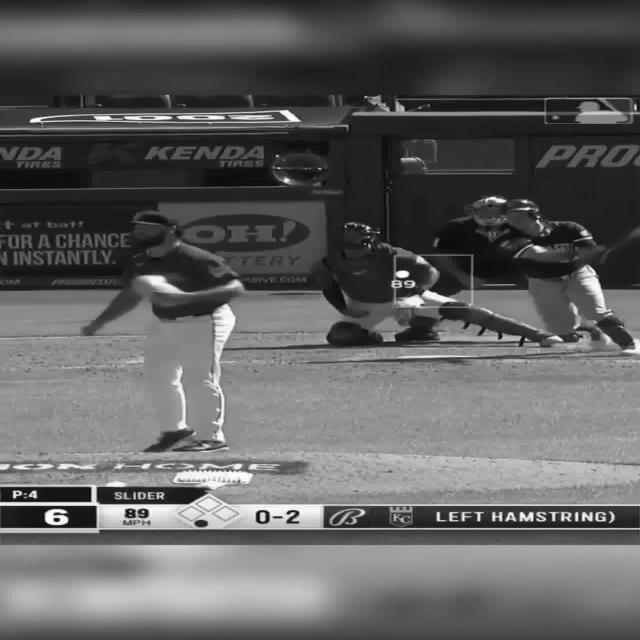baseball_glove: (138, 278, 182, 302)
shoe: (326, 322, 382, 346), (142, 428, 195, 452), (596, 318, 634, 350), (394, 326, 440, 342), (171, 440, 229, 452), (538, 332, 580, 347), (360, 330, 382, 343)
